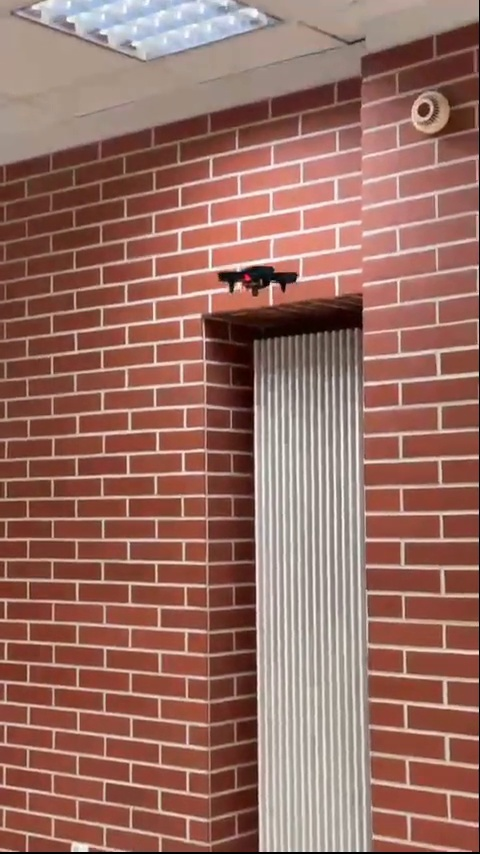drone: (223, 268, 299, 292)
